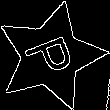P_E: (20, 30, 81, 83)
